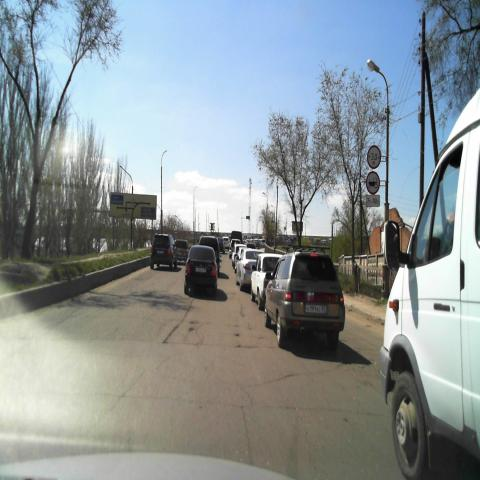3_14: (367, 144, 381, 169)
3_6: (366, 171, 380, 194)
8_5_4: (365, 196, 380, 206)
